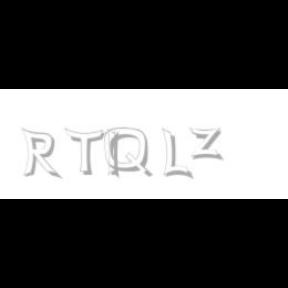L: (162, 128, 190, 180)
Q: (104, 128, 150, 178)
R: (21, 128, 59, 180)
T: (64, 128, 104, 176)
l: (107, 128, 123, 180)
z: (189, 128, 225, 160)
